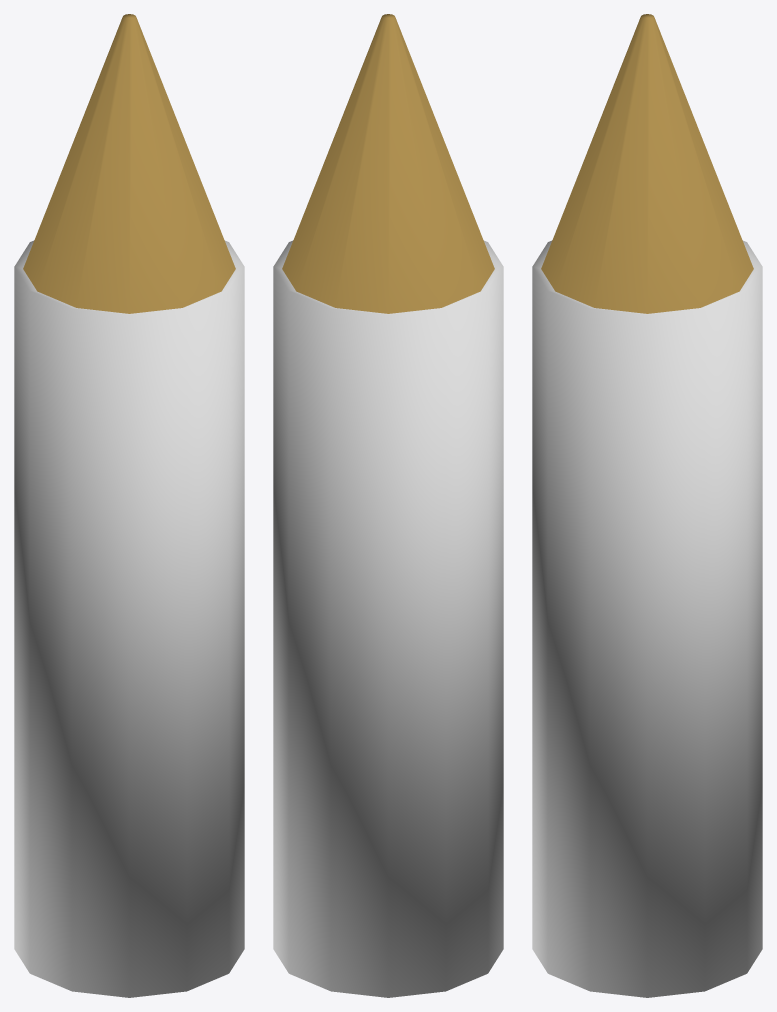
File: gotegirenkazik.fbx
The picture shows the model from 3 angles, left to right: view 1: azimuth 30°, elevation 25°; view 2: azimuth 150°, elevation 25°; view 3: azimuth 270°, elevation 25°; orthographic projection.
Parts seen in each view (by area): view 1: gotegirenkazik; view 2: gotegirenkazik; view 3: gotegirenkazik.
Part boxes in pixels (left/top/right/bottom): gotegirenkazik: left=14, top=14, right=244, bottom=997; gotegirenkazik: left=273, top=14, right=503, bottom=997; gotegirenkazik: left=532, top=14, right=762, bottom=997.
Size of the model in its own units: 200 by 894 by 200.
